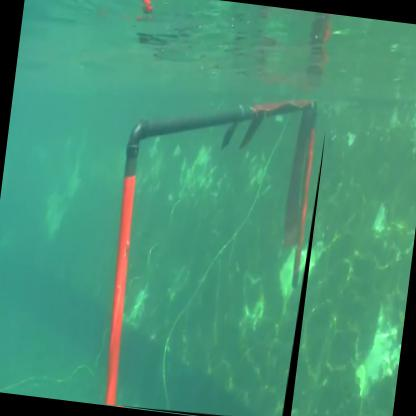gate: (94, 79, 331, 416)
